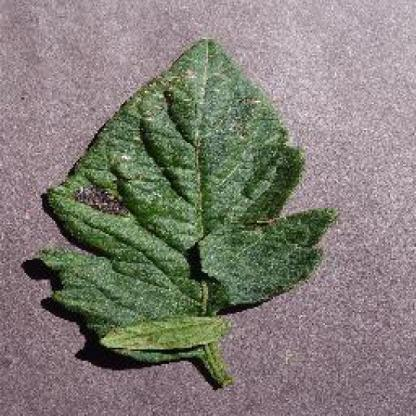Tomato_Blight: (38, 37, 334, 359)
